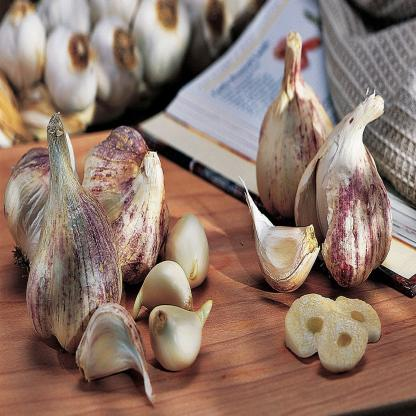--: (12, 114, 126, 370), (288, 76, 393, 304), (233, 198, 322, 304), (144, 296, 211, 376)
